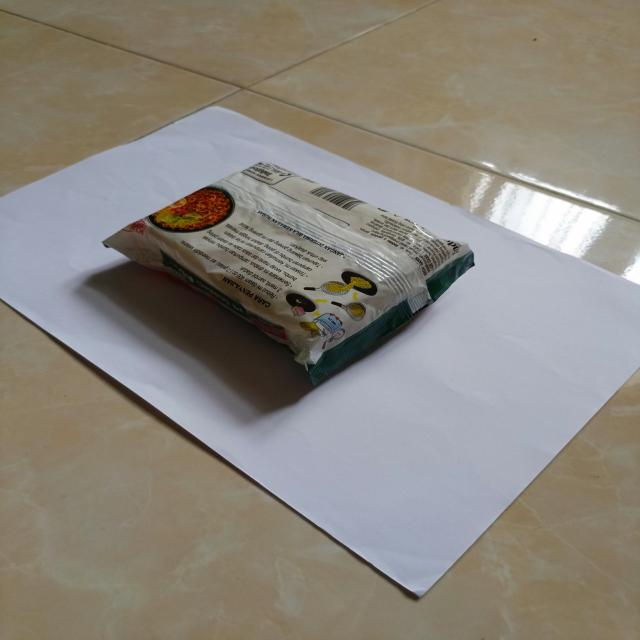gery-salut-coconut: (100, 161, 476, 390)
